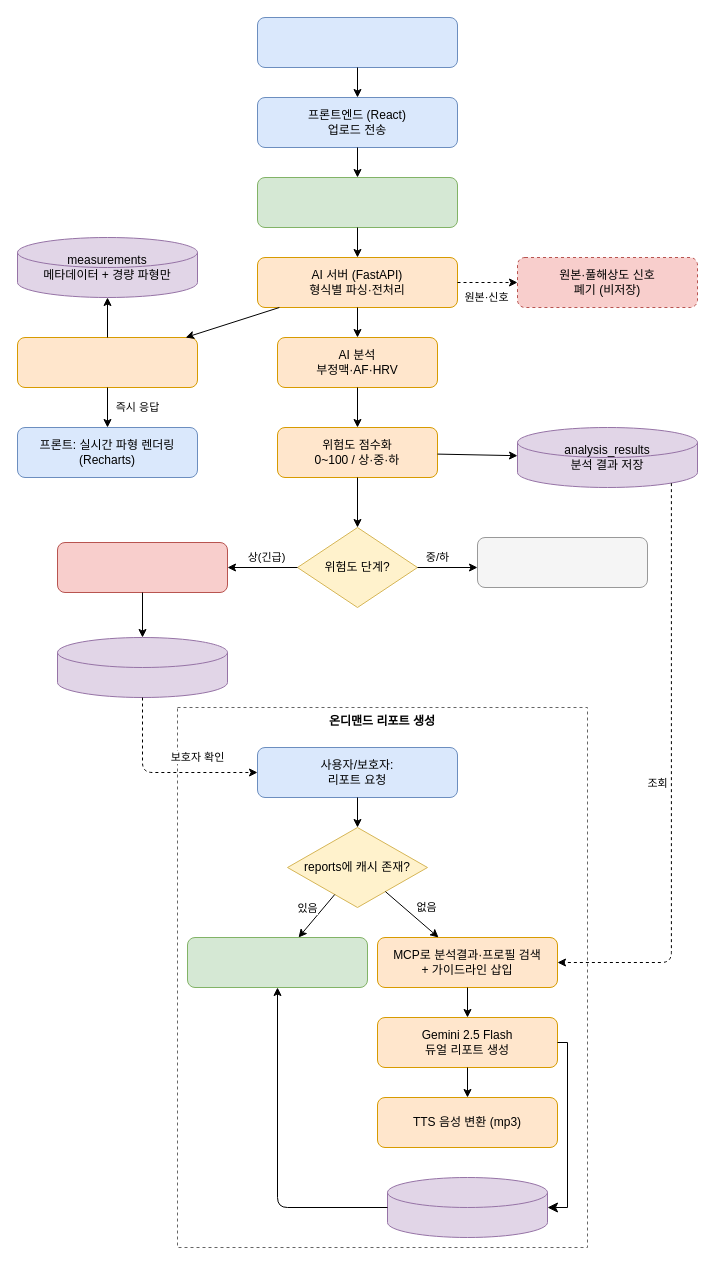
The diagram is 715 pixels wide and 1265 high, and some of its shapes have lost their labels. The centre of each missing label's shape, as x and y in pixels:
"notifications 발송 이력" belongs at [142,667].
"reports 저장·캐싱" belongs at [467,1207].
"경량 파형 다운샘플링 + R-peak 추출" belongs at [107,362].
"긴급 알림 즉시 발송 FCM + SMS" belongs at [142,567].
"백엔드 (Node.js + Multer) 파일 수신·형식 검증" belongs at [357,202].
"사용자: ECG 파일 업로드 (WFDB/EDF/CSV)" belongs at [357,42].
"알림 없음 (하 = 주간 누적)" belongs at [562,562].
"캐시 리포트 즉시 반환" belongs at [277,962].
